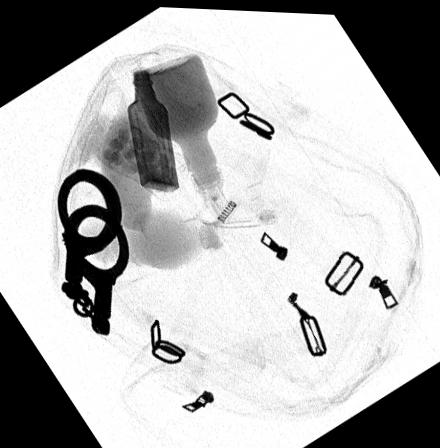HandCuffs: (56, 168, 129, 334)
